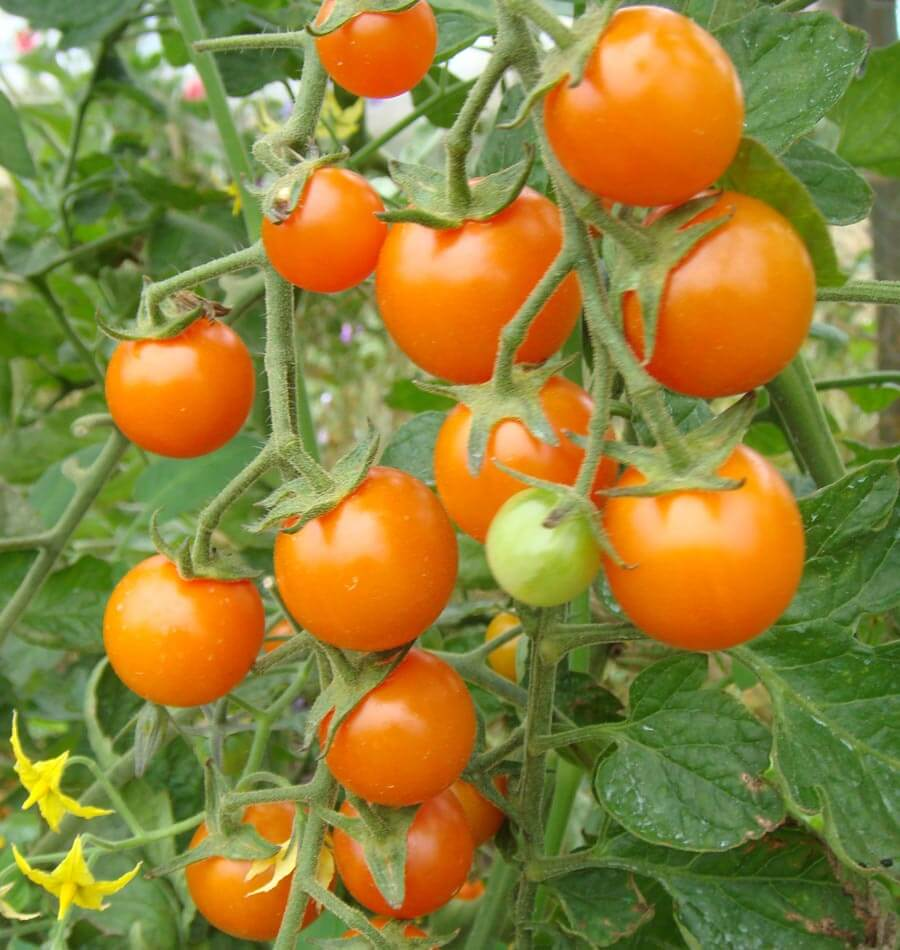stems: (603, 314, 686, 467), (490, 238, 570, 391), (189, 436, 273, 566), (138, 243, 262, 324), (445, 42, 502, 213), (554, 167, 656, 261), (567, 347, 610, 502), (214, 782, 313, 838), (280, 428, 342, 495), (510, 1, 573, 40), (250, 126, 293, 179), (346, 789, 388, 835), (318, 647, 362, 680)
tomato: (374, 176, 586, 382), (600, 440, 805, 652), (612, 188, 817, 400), (541, 6, 744, 206), (273, 466, 459, 650), (435, 375, 616, 542), (105, 548, 265, 707), (319, 647, 475, 805), (103, 313, 257, 458), (187, 791, 335, 940), (336, 788, 476, 921), (261, 167, 389, 293), (485, 487, 603, 607), (313, 1, 442, 99), (451, 746, 510, 848), (484, 609, 522, 679)
